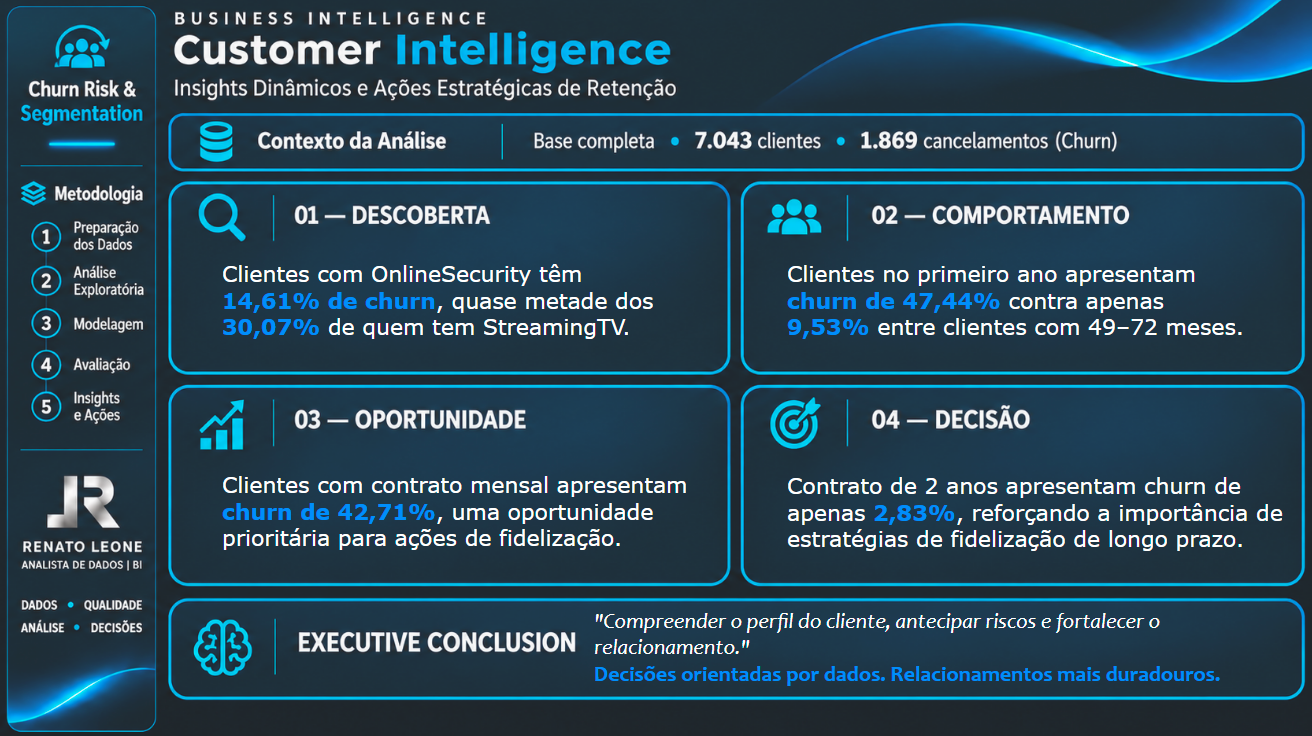

The page's visual inventory and layout, read from the dashboard file:
{"tool":"powerbi","page":{"name":"04_CUSTOMER INTELLIGENCE","canvas":[1920,1080],"ordinal":3},"visuals":[{"type":"textbox","box":[326.9,380.9,650.8,137.3],"z":1},{"type":"textbox","box":[1150.5,380.9,681.6,137.3],"z":2},{"type":"textbox","box":[326.9,689.3,690.9,149.6],"z":3},{"type":"textbox","box":[1150.5,670.8,732.5,168.1],"z":4},{"type":"textbox","box":[869.8,886.7,1050.2,132.6],"z":5}]}

Visuals, with their boxes in screenshot pixels (x1, y1, x2, y2), scaled from the page's 1920x1080 canvas onto the 1312x736 screenshot:
textbox: [x1=223, y1=260, x2=668, y2=353]
textbox: [x1=786, y1=260, x2=1252, y2=353]
textbox: [x1=223, y1=470, x2=695, y2=572]
textbox: [x1=786, y1=457, x2=1287, y2=572]
textbox: [x1=594, y1=604, x2=1311, y2=695]
